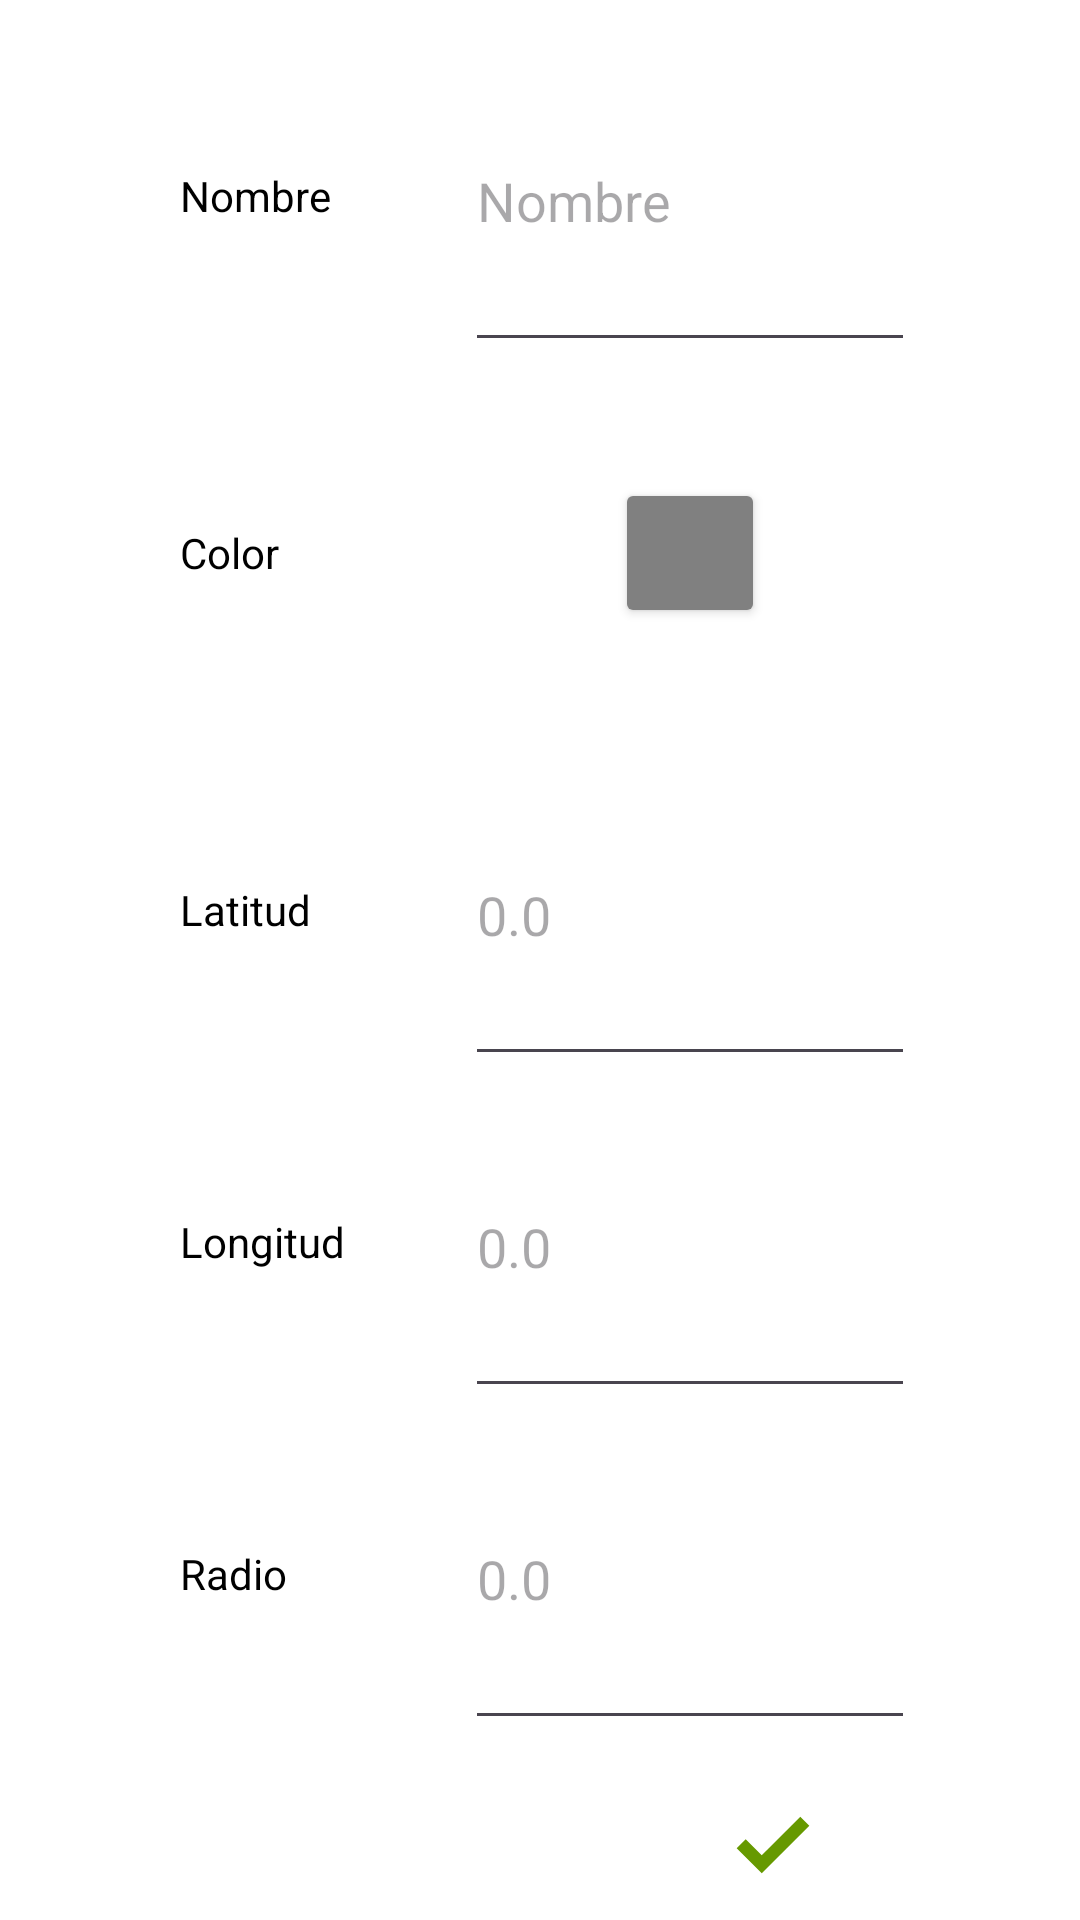

Icons on this 1080px×1920px Android screen, each with its box as (x1, y1, x2, y2):
Aceptar: (736, 1817, 809, 1873)
